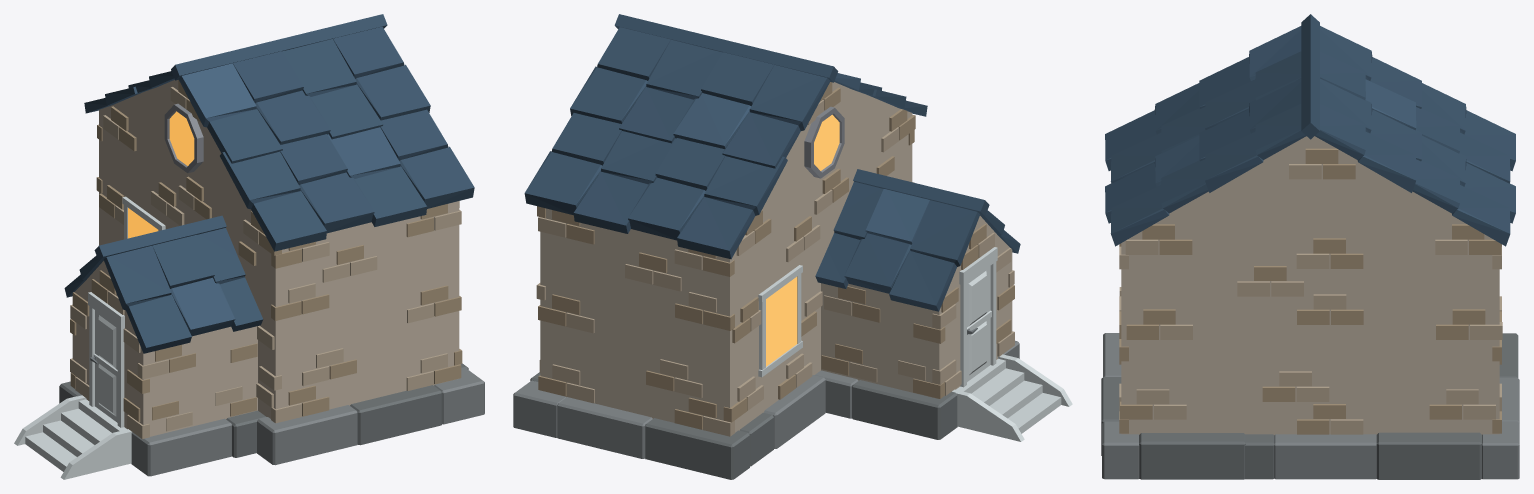
The model's file is SM_House_4.fbx.
3 views of the same model, side by side, from view 1: azimuth 30°, elevation 25°; view 2: azimuth 150°, elevation 25°; view 3: azimuth 270°, elevation 25° (orthographic). The views are drawn at different scales.
Parts seen in each view (by area): view 1: SM_House_4_LOD0; view 2: SM_House_4_LOD0; view 3: SM_House_4_LOD0.
Part boxes in pixels (x1=…): SM_House_4_LOD0: x1=14, y1=14, x2=484, y2=479; SM_House_4_LOD0: x1=513, y1=14, x2=1072, y2=479; SM_House_4_LOD0: x1=1101, y1=14, x2=1519, y2=479.
Size of the model in its own units: 758 by 664 by 619.
Materials: 1 (1 with a texture image).
